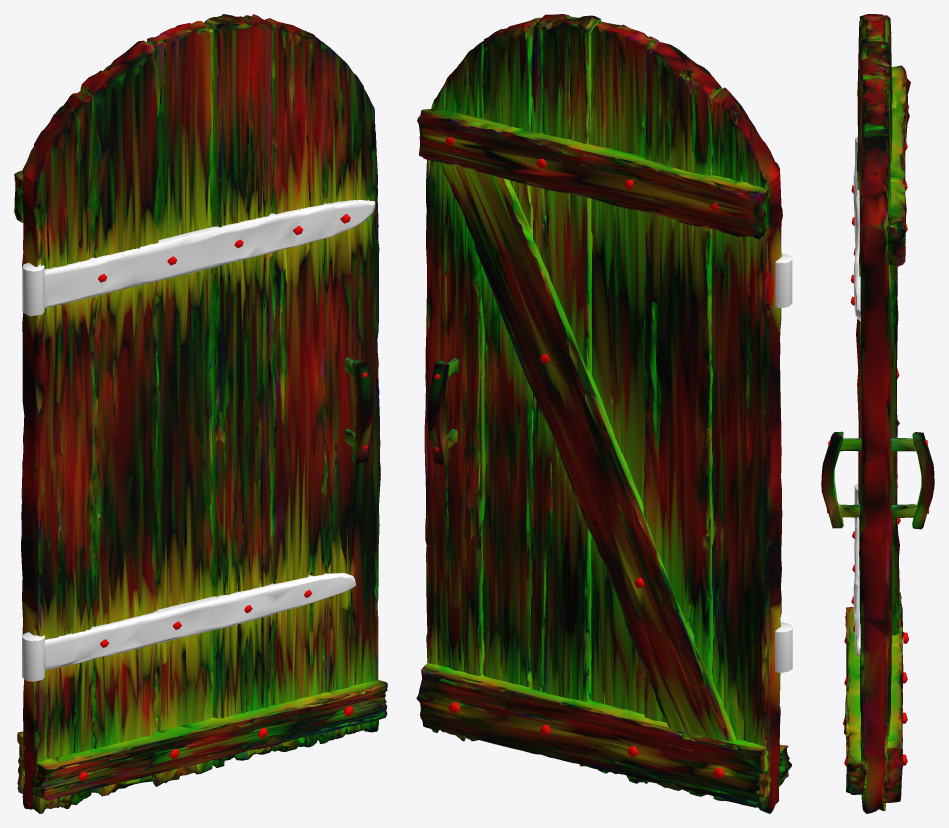
The model's file is SM_Reinforced_Door_Arc.fbx.
3 renders of one model, left to right at view 1: azimuth 30°, elevation 25°; view 2: azimuth 150°, elevation 25°; view 3: azimuth 270°, elevation 25°, orthographic. The views are drawn at different scales.
Visible parts, largest first — view 1: SM_Reinforced_Door_Arc_LOD0; view 2: SM_Reinforced_Door_Arc_LOD0; view 3: SM_Reinforced_Door_Arc_LOD0.
Boxes of the visible parts, x1,y1,x2,y2 form: SM_Reinforced_Door_Arc_LOD0: [14, 14, 387, 813]; SM_Reinforced_Door_Arc_LOD0: [416, 14, 792, 813]; SM_Reinforced_Door_Arc_LOD0: [821, 14, 934, 813].
Size of the model in its own units: 109 by 31.77 by 219.
